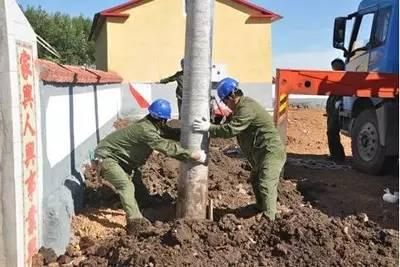boots: (127, 219, 154, 238)
gloves: (192, 116, 211, 132), (191, 148, 206, 163)
hard-hat: (215, 78, 239, 100), (148, 98, 172, 119)
person: (92, 98, 206, 237), (192, 77, 287, 223)
ppe-suit: (92, 114, 195, 224), (208, 94, 287, 220)
